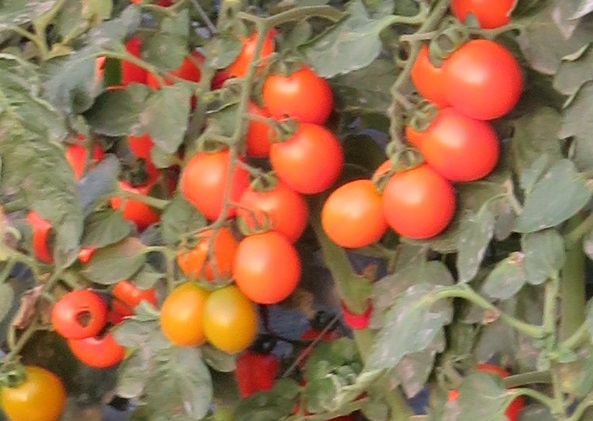orange: (445, 38, 526, 122), (421, 111, 511, 182), (383, 164, 464, 241), (264, 123, 345, 195), (233, 230, 303, 306), (322, 174, 388, 251), (261, 68, 340, 126), (182, 149, 241, 222), (205, 289, 268, 352), (1, 364, 73, 417), (238, 182, 309, 233), (163, 280, 210, 348), (50, 293, 109, 340)
